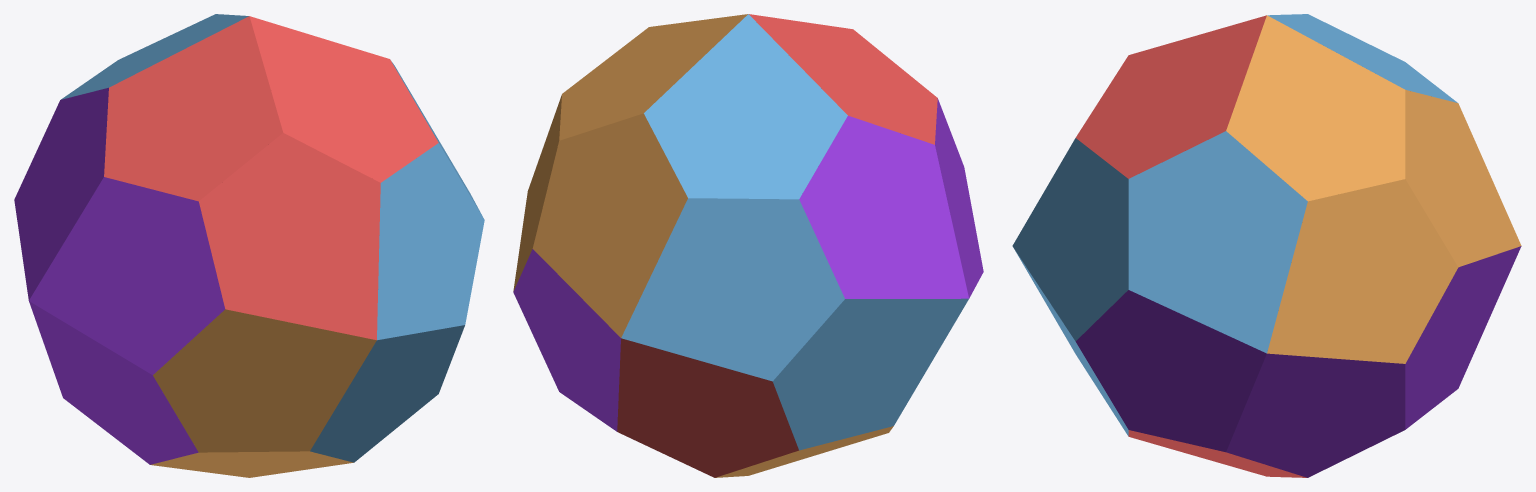
Rendered from PentagonalIcositetrahedronPuzzle_explosion.glb.
3 views of the same model, side by side, from view 1: azimuth 30°, elevation 25°; view 2: azimuth 150°, elevation 25°; view 3: azimuth 270°, elevation 25° (orthographic).
Parts seen in each view (by area): view 1: piece6, piece1, piece3, piece8, piece2; view 2: piece2, piece5, piece1, piece7, piece6, piece4, piece8; view 3: piece5, piece4, piece3, piece6, piece2, piece7.
Part boxes in pixels (bbox=[...]): piece6: bbox=[104, 16, 438, 340]; piece1: bbox=[14, 87, 224, 464]; piece3: bbox=[310, 61, 484, 462]; piece8: bbox=[151, 309, 376, 477]; piece2: bbox=[61, 14, 248, 99]; piece2: bbox=[621, 14, 968, 450]; piece5: bbox=[513, 14, 747, 337]; piece1: bbox=[799, 98, 983, 298]; piece7: bbox=[617, 338, 798, 477]; piece6: bbox=[749, 14, 937, 144]; piece4: bbox=[513, 249, 620, 431]; piece8: bbox=[715, 426, 893, 477]; piece5: bbox=[1226, 15, 1521, 363]; piece4: bbox=[1075, 246, 1521, 477]; piece3: bbox=[1012, 131, 1307, 436]; piece6: bbox=[1075, 15, 1266, 178]; piece2: bbox=[1267, 14, 1457, 102]; piece7: bbox=[1128, 430, 1306, 477].
Size of the model in its own units: 91.76 by 91.76 by 91.76.
